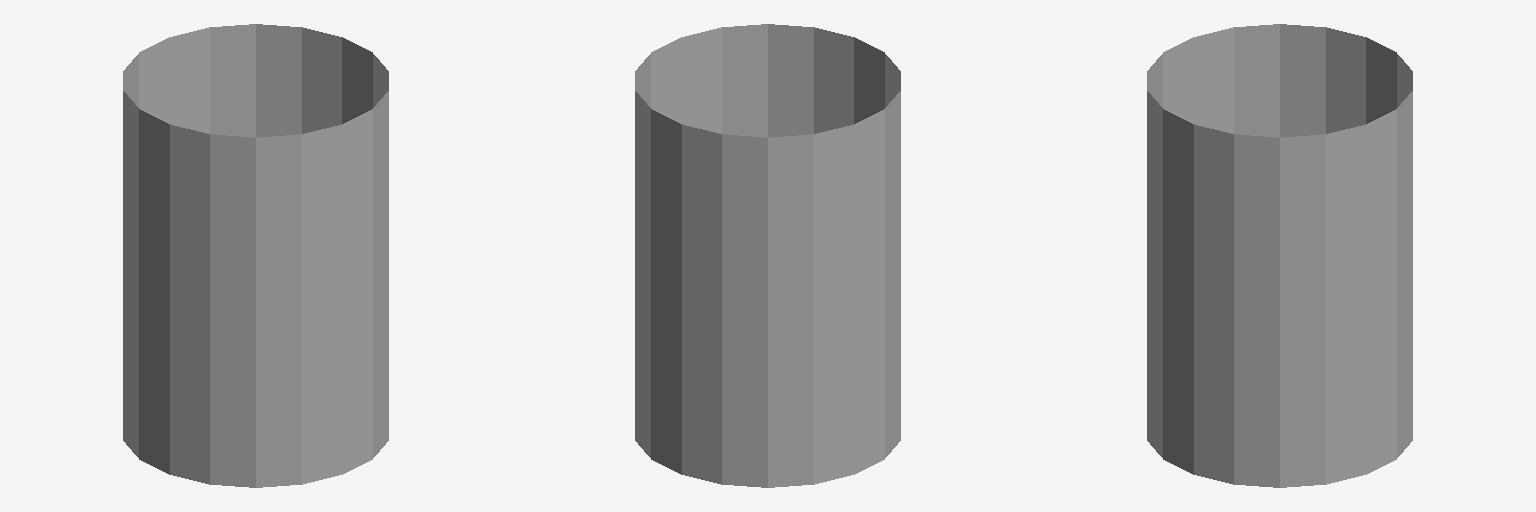
Rendered from Cylinder Centered.obj.
The picture shows the model from 3 angles: view 1: azimuth 30°, elevation 25°; view 2: azimuth 150°, elevation 25°; view 3: azimuth 270°, elevation 25°; orthographic projection.
Visible parts, largest first — view 1: Cylinder001; view 2: Cylinder001; view 3: Cylinder001.
Part boxes in pixels (x1,y1,x2,y2): Cylinder001: (123,24,388,487); Cylinder001: (635,24,900,487); Cylinder001: (1147,24,1412,487).
Size of the model in its own units: 21.77 by 31.27 by 21.44.